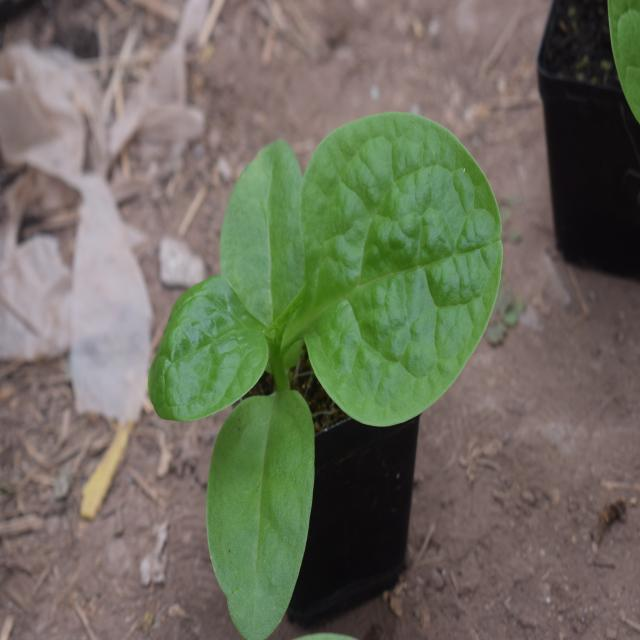Ceylon spinach: (154, 114, 492, 602)
